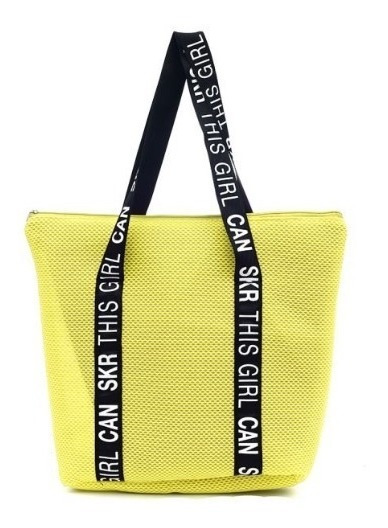cartera: (23, 29, 347, 496)
